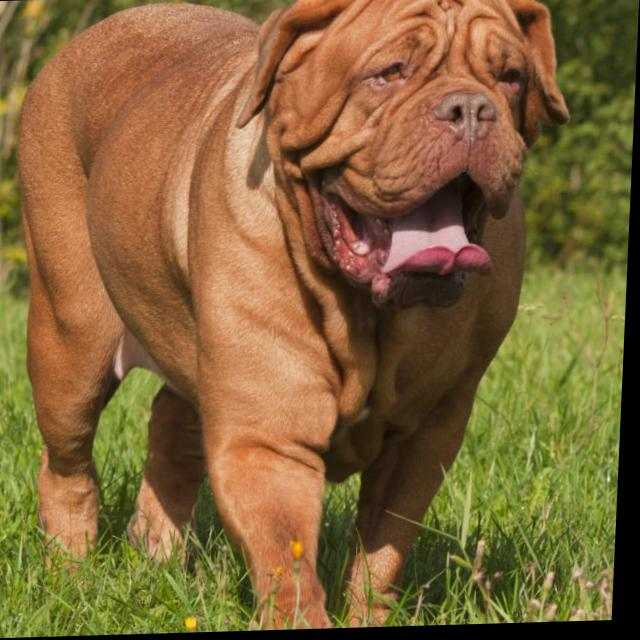dogue_de_bordeaux: (1, 1, 577, 639)
